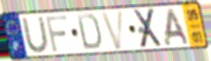A: (164, 7, 191, 48)
D: (75, 13, 103, 51)
F: (44, 14, 69, 53)
U: (20, 15, 52, 54)
V: (99, 8, 126, 51)
X: (133, 7, 165, 50)
